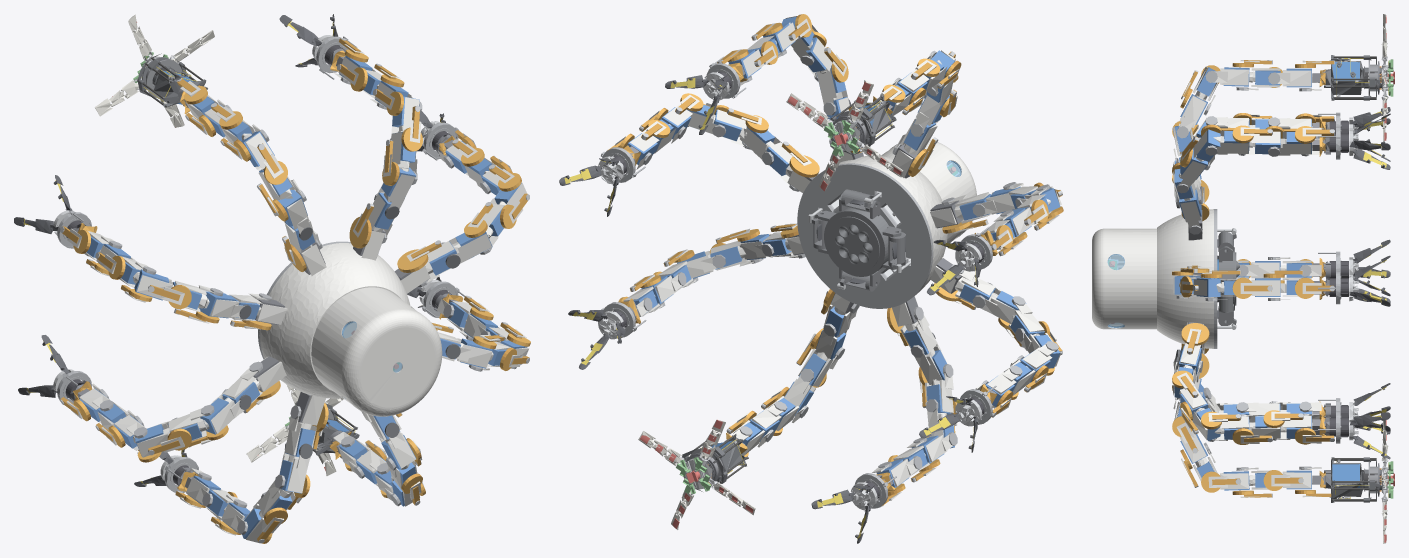
Rendered from cephalo2_stand.glb.
3 renders of one model, left to right at view 1: azimuth 30°, elevation 25°; view 2: azimuth 150°, elevation 25°; view 3: azimuth 270°, elevation 25°, orthographic. The views are drawn at different scales.
Parts seen in each view (by area): view 1: arms and hands|c0, turret shell|shell, arms and hands|c7, arms and hands|c3, arms and hands|c6, arms and hands|c4, arms and hands|c26, arms and hands|c12, arms and hands|c2, arms and hands|c17, arms and hands|c8, bayonet connectors|sockets (+5 smaller); view 2: arms and hands|c0, arms and hands|c7, body|plate, arms and hands|c6, arms and hands|c3, belly rotor|hub, arms and hands|c4, turret shell|shell, arms and hands|c12, arms and hands|c11, arms and hands|c26, arms and hands|c17 (+10 smaller); view 3: arms and hands|c0, turret shell|shell, arms and hands|c7, arms and hands|c3, arms and hands|c4, arms and hands|c6, arms and hands|c12, arms and hands|c17, arms and hands|c10, arms and hands|c16, arms and hands|c2, arms and hands|c15 (+13 smaller).
Part boxes in pixels (left/top/right/bottom): arms and hands|c0: left=66, top=44, right=528, bottom=542; turret shell|shell: left=259, top=243, right=442, bottom=416; arms and hands|c7: left=79, top=55, right=527, bottom=538; arms and hands|c3: left=73, top=49, right=530, bottom=542; arms and hands|c6: left=57, top=36, right=516, bottom=534; arms and hands|c4: left=61, top=38, right=529, bottom=541; arms and hands|c26: left=95, top=14, right=343, bottom=475; arms and hands|c12: left=14, top=14, right=445, bottom=486; arms and hands|c2: left=75, top=53, right=530, bottom=543; arms and hands|c17: left=137, top=53, right=359, bottom=458; arms and hands|c8: left=239, top=206, right=460, bottom=458; bayonet connectors|sockets: left=73, top=50, right=463, bottom=491; arms and hands|c0: left=612, top=16, right=1061, bottom=500; arms and hands|c7: left=627, top=16, right=1060, bottom=487; body|plate: left=797, top=163, right=933, bottom=308; arms and hands|c6: left=601, top=49, right=1058, bottom=508; arms and hands|c3: left=618, top=14, right=1062, bottom=495; belly rotor|hub: left=817, top=193, right=901, bottom=287; arms and hands|c4: left=607, top=22, right=1062, bottom=505; turret shell|shell: left=821, top=139, right=976, bottom=294; arms and hands|c12: left=559, top=75, right=981, bottom=543; arms and hands|c11: left=598, top=72, right=982, bottom=510; arms and hands|c26: left=638, top=80, right=903, bottom=529; arms and hands|c17: left=680, top=95, right=896, bottom=491; arms and hands|c0: left=1172, top=60, right=1321, bottom=497; turret shell|shell: left=1092, top=209, right=1213, bottom=348; arms and hands|c7: left=1174, top=67, right=1311, bottom=490; arms and hands|c3: left=1172, top=63, right=1315, bottom=494; arms and hands|c4: left=1180, top=60, right=1333, bottom=497; arms and hands|c6: left=1176, top=70, right=1341, bottom=470; arms and hands|c12: left=1349, top=107, right=1390, bottom=459; arms and hands|c17: left=1331, top=55, right=1381, bottom=502; arms and hands|c10: left=1329, top=120, right=1348, bottom=437; arms and hands|c16: left=1332, top=62, right=1359, bottom=487; arms and hands|c2: left=1172, top=64, right=1315, bottom=494; arms and hands|c15: left=1331, top=56, right=1376, bottom=501.
Bounding box in the file's own units: 0.7794 × 0.883 × 0.5421.
